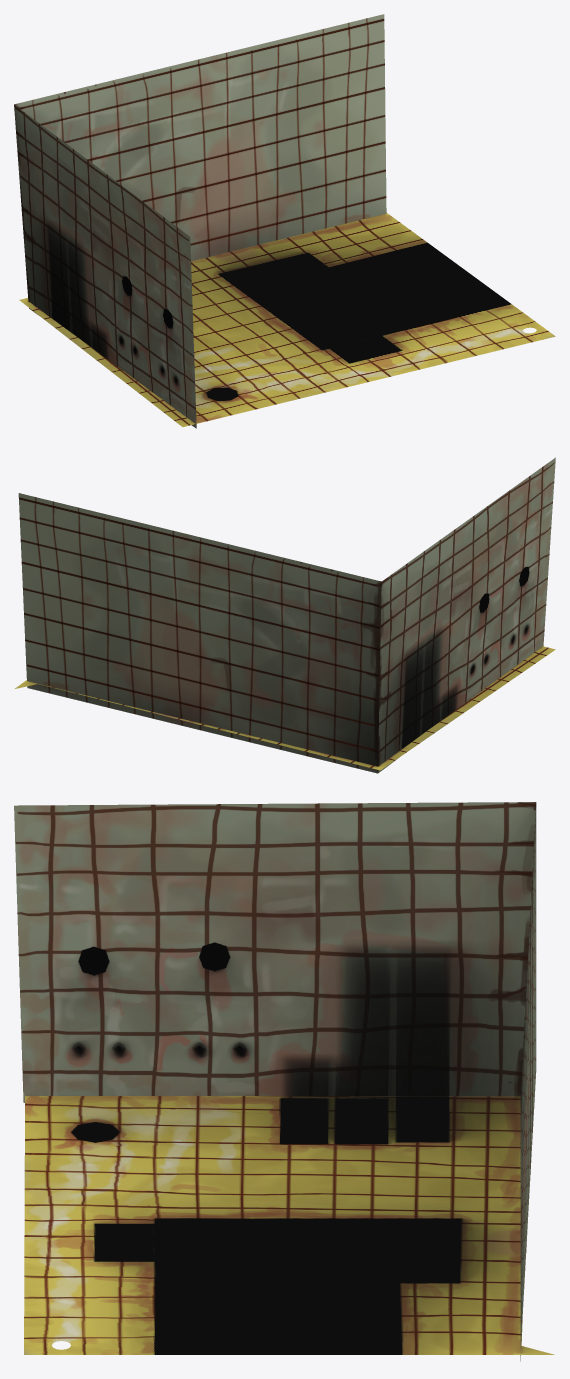
File: bathroom walls and floor.fbx
3 renders of one model, top to bottom at view 1: azimuth 30°, elevation 25°; view 2: azimuth 150°, elevation 25°; view 3: azimuth 270°, elevation 25°, orthographic. The views are drawn at different scales.
Parts seen in each view (by area): view 1: polySurface1586, polySurface1473; view 2: polySurface1586, polySurface1473; view 3: polySurface1586, polySurface1473.
Part boxes in pixels (x1,y1,x2,y2): polySurface1586: [14, 14, 386, 428]; polySurface1473: [19, 213, 555, 427]; polySurface1586: [18, 457, 555, 773]; polySurface1473: [15, 646, 555, 770]; polySurface1586: [14, 802, 536, 1361]; polySurface1473: [24, 1096, 554, 1354].
Size of the model in its own units: 11.05 by 5.7 by 9.37.
Materials: 2 (2 with a texture image).
